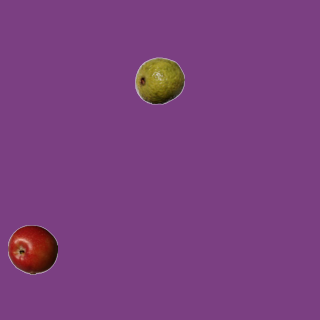Apple Braeburn: (7, 224, 57, 274)
Guava: (134, 55, 184, 105)
